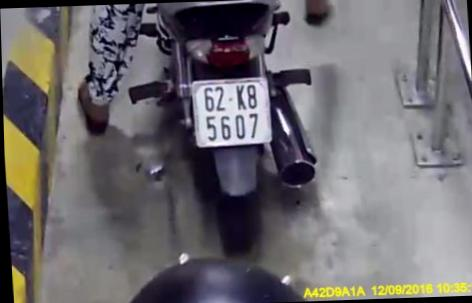LP: (189, 77, 275, 149)
